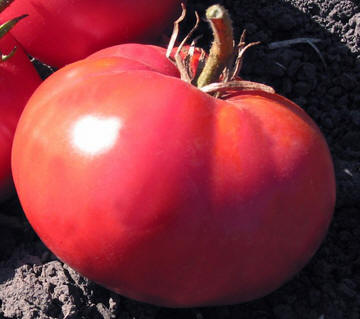tomato: (11, 45, 336, 307)
